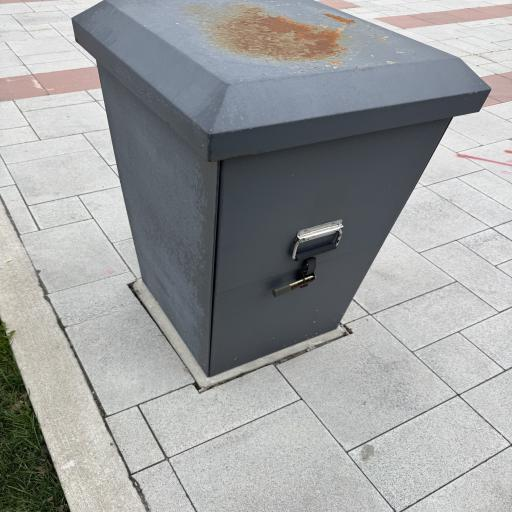Electrical Box: (75, 0, 493, 378)
